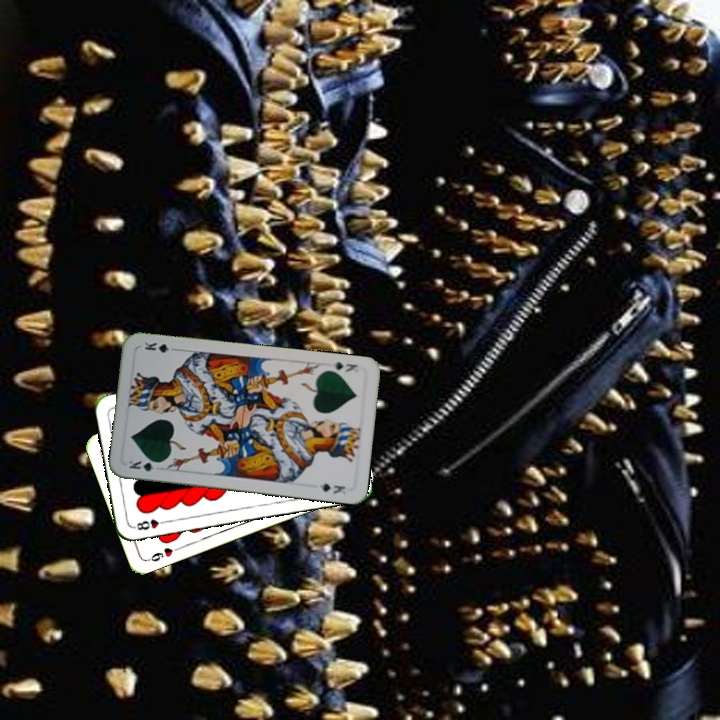GK: (125, 456, 164, 474), (328, 358, 360, 375)
H8: (130, 515, 170, 533)
H9: (143, 543, 182, 564)
